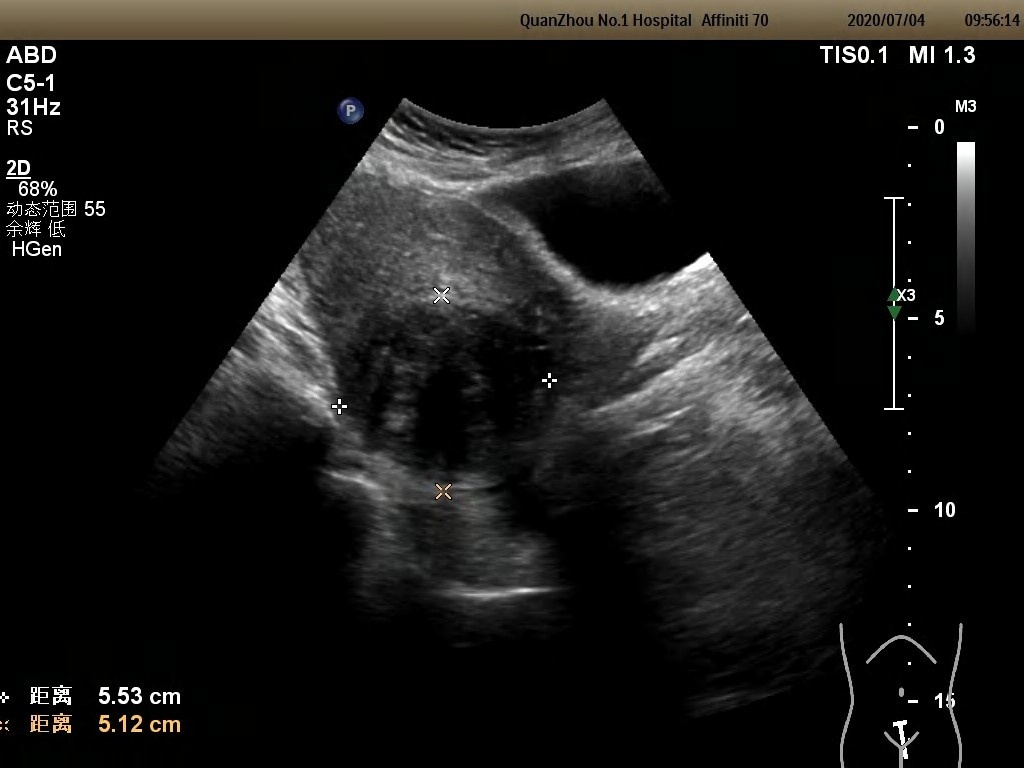肌瘤: (336, 315, 549, 468)
